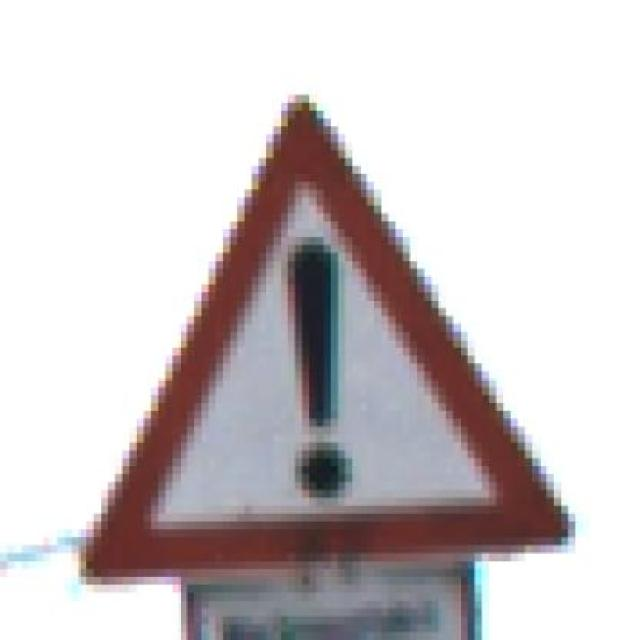Attention Please-: (57, 78, 575, 584)
